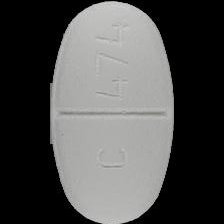54868-4566: (0, 0, 224, 224)
